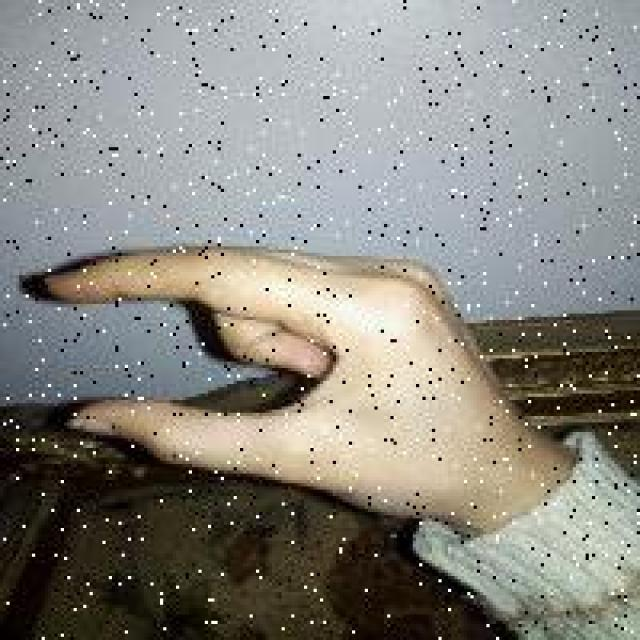Q: (35, 236, 515, 522)
